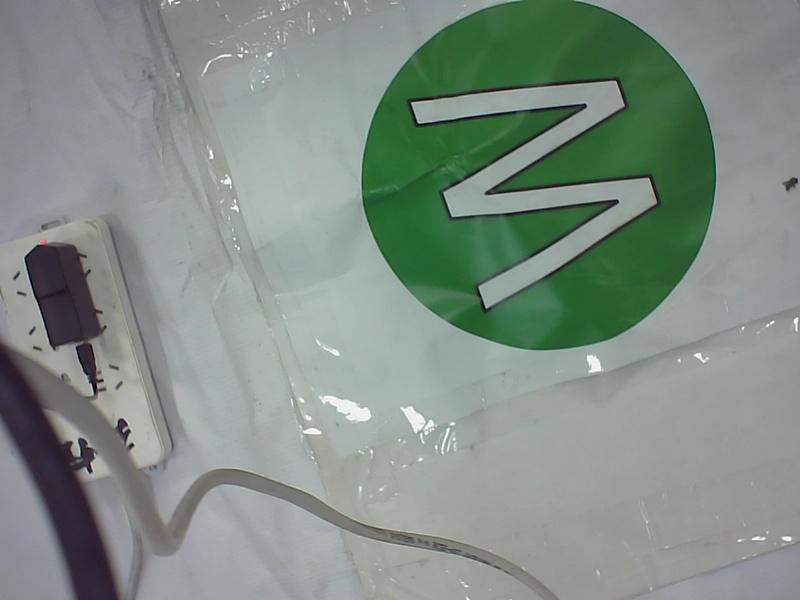areaB: (349, 1, 730, 358)
